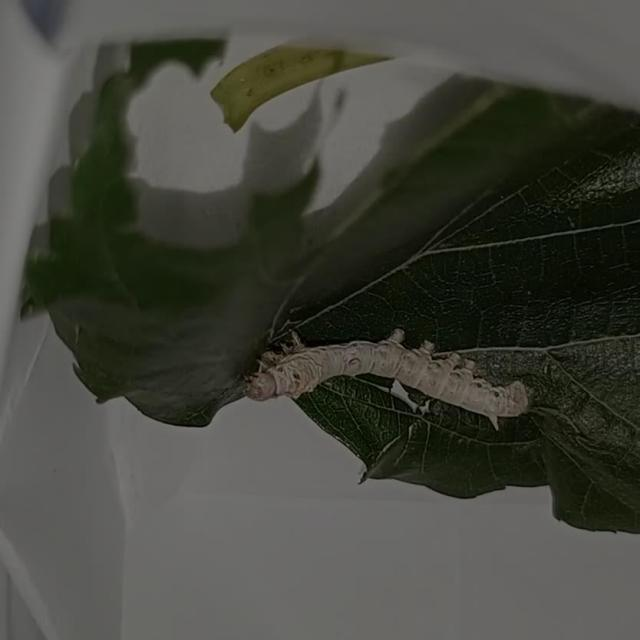Healthy: (230, 318, 536, 440)
